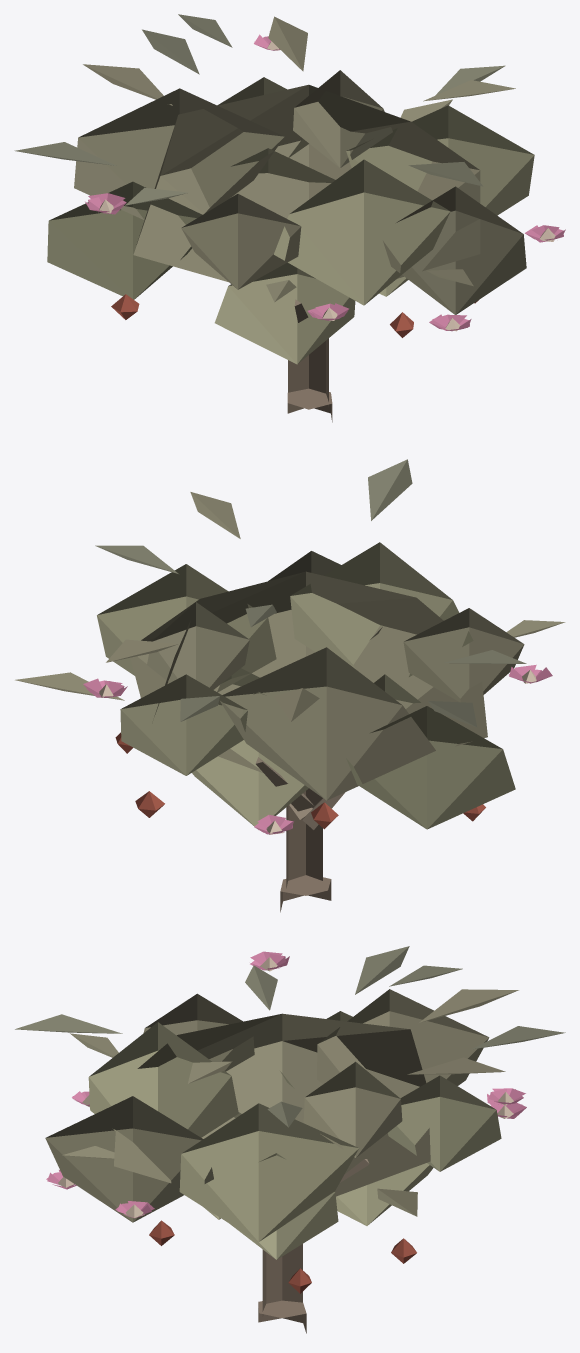
Rendered from nong.sang__winter.glb.
3 renders of one model, top to bottom at view 1: azimuth 30°, elevation 25°; view 2: azimuth 150°, elevation 25°; view 3: azimuth 270°, elevation 25°, orthographic. The views are drawn at different scales.
Visible parts, largest first — view 1: nong.sang__winter; view 2: nong.sang__winter; view 3: nong.sang__winter.
Part boxes in pixels (left/top/right/bottom): nong.sang__winter: left=14, top=14, right=565, bottom=422; nong.sang__winter: left=15, top=459, right=565, bottom=912; nong.sang__winter: left=15, top=946, right=565, bottom=1333.
Bounding box in the file's own units: 8.5 × 6.33 × 9.27.
